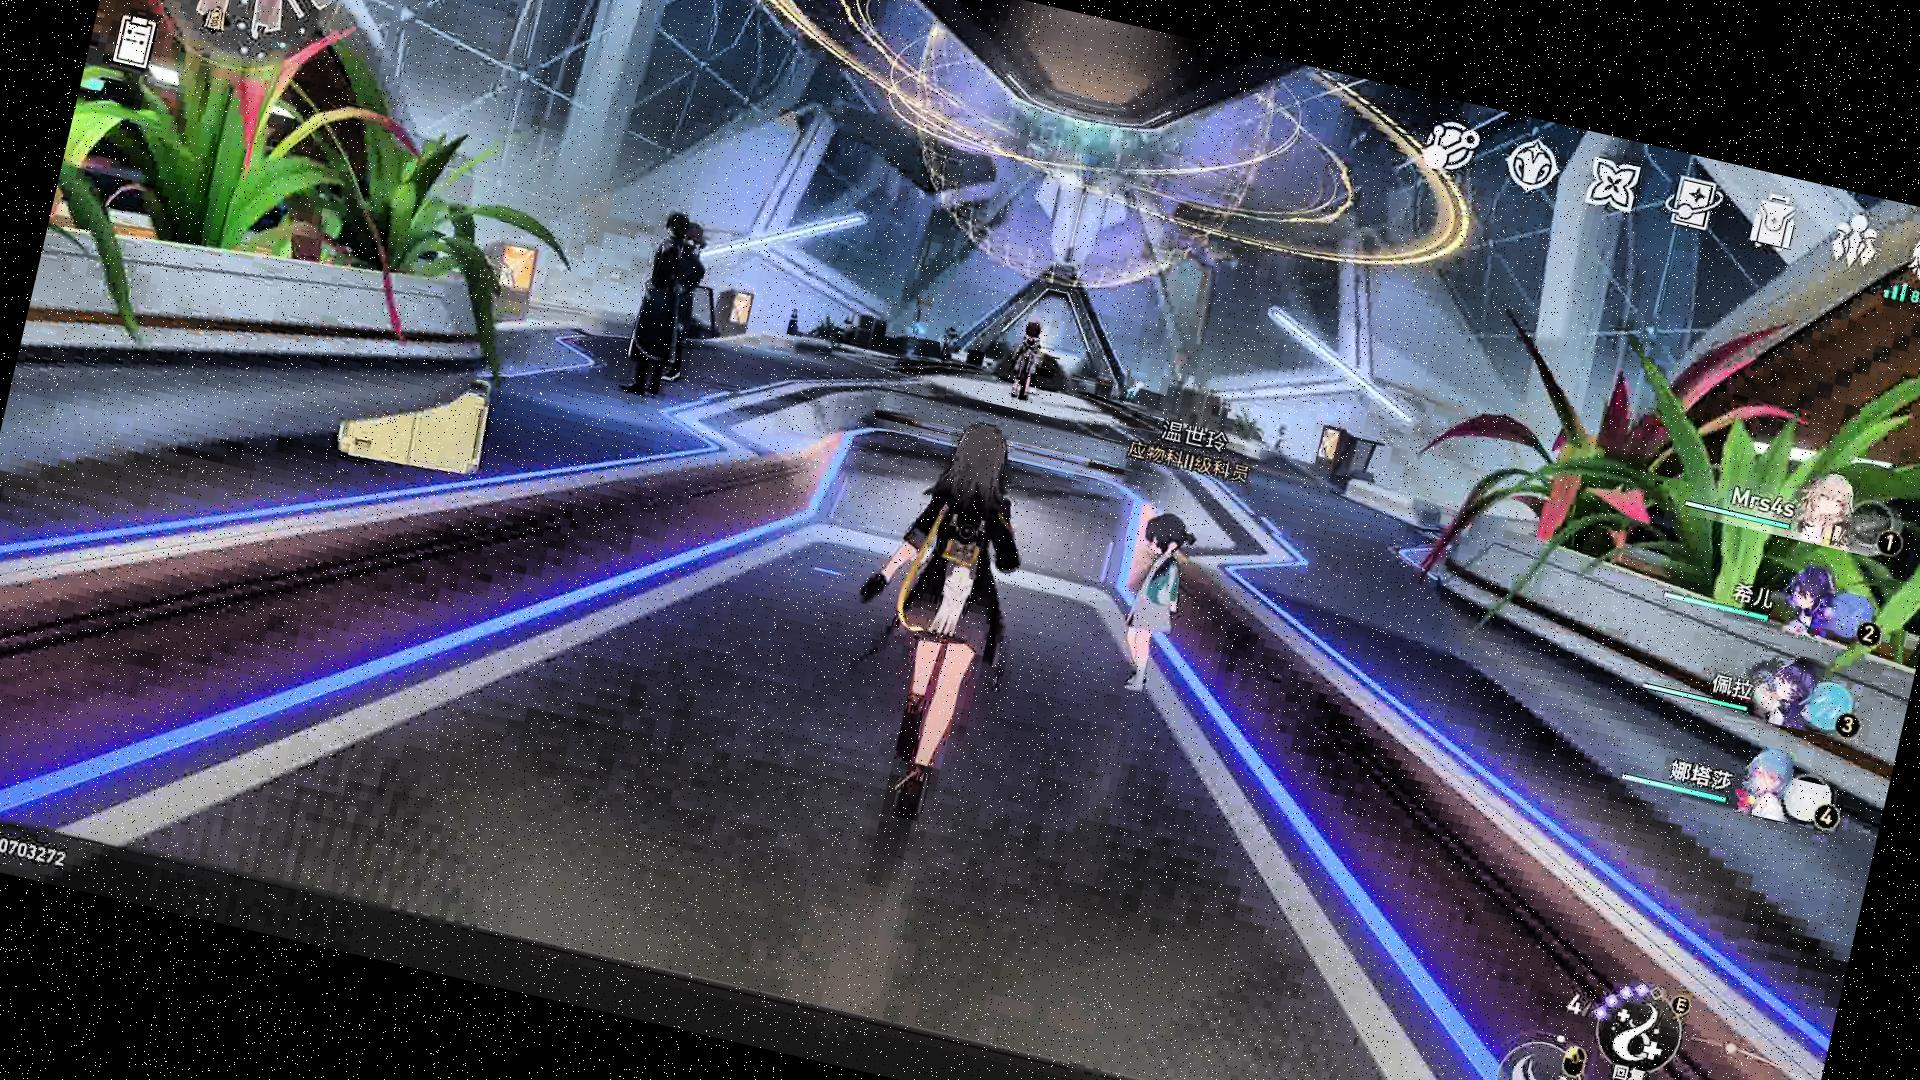Self: (812, 407, 1048, 841)
TeamMate: (1105, 508, 1204, 700), (617, 203, 707, 404), (1000, 310, 1051, 407)
